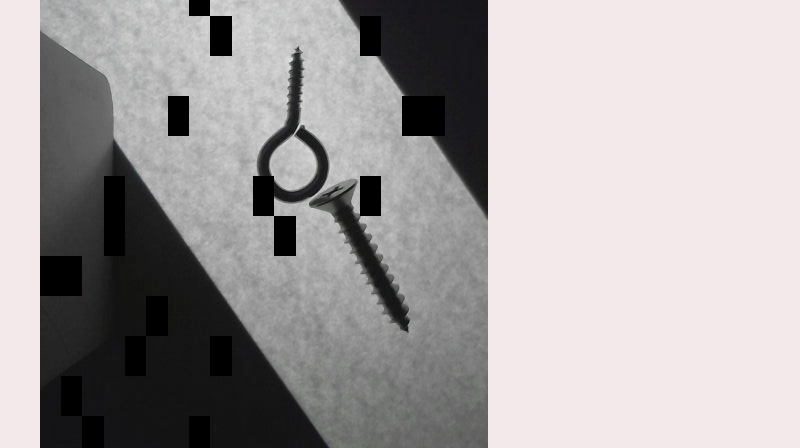O001: (255, 42, 330, 203)
S001: (308, 176, 411, 335)
